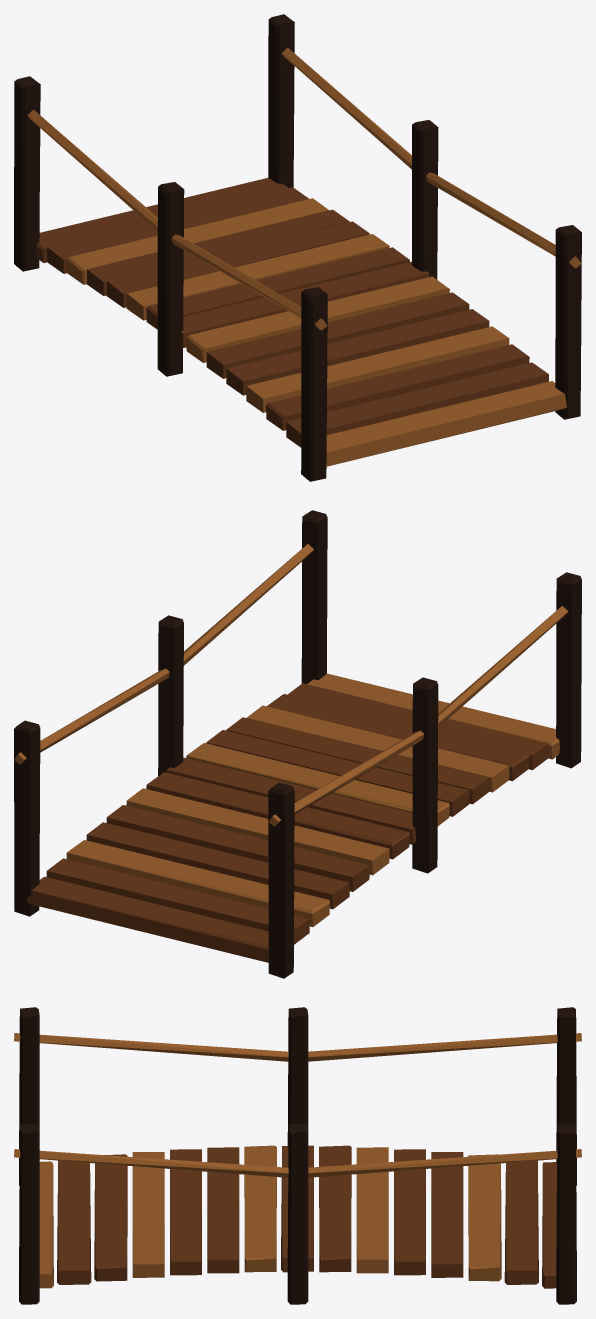
The model's file is Ponte_de_madeira_LOD1.fbx.
The picture shows the model from 3 angles, top to bottom: view 1: azimuth 30°, elevation 25°; view 2: azimuth 150°, elevation 25°; view 3: azimuth 270°, elevation 25°; orthographic projection. The views are drawn at different scales.
Visible parts, largest first — view 1: Ponte_de_madeira_LOD1; view 2: Ponte_de_madeira_LOD1; view 3: Ponte_de_madeira_LOD1.
Part boxes in pixels (x1,y1,x2,y2): Ponte_de_madeira_LOD1: [14, 14, 581, 481]; Ponte_de_madeira_LOD1: [14, 510, 581, 978]; Ponte_de_madeira_LOD1: [14, 1007, 581, 1304].
Size of the model in its own units: 198 by 130 by 381.
Materials: 1 (1 with a texture image).
